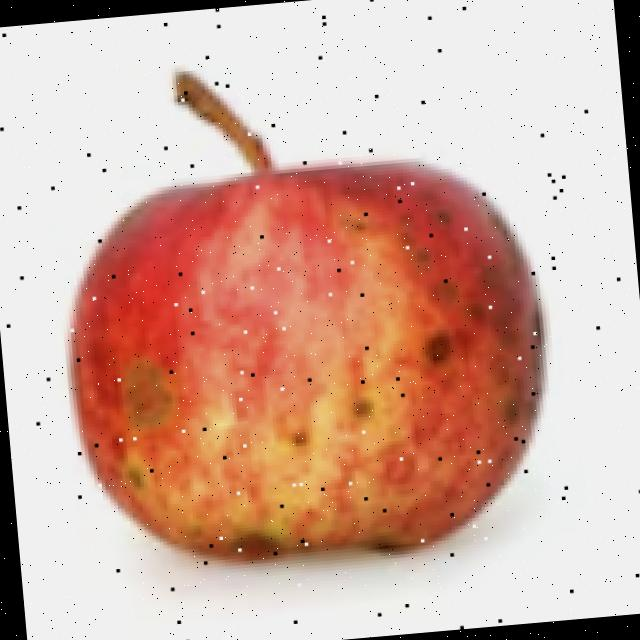Rotten: (49, 142, 566, 580)
